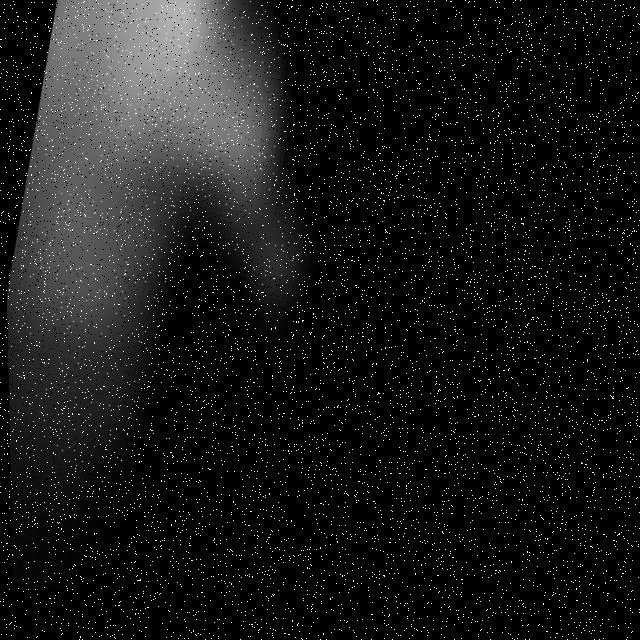person: (1, 1, 344, 511)
